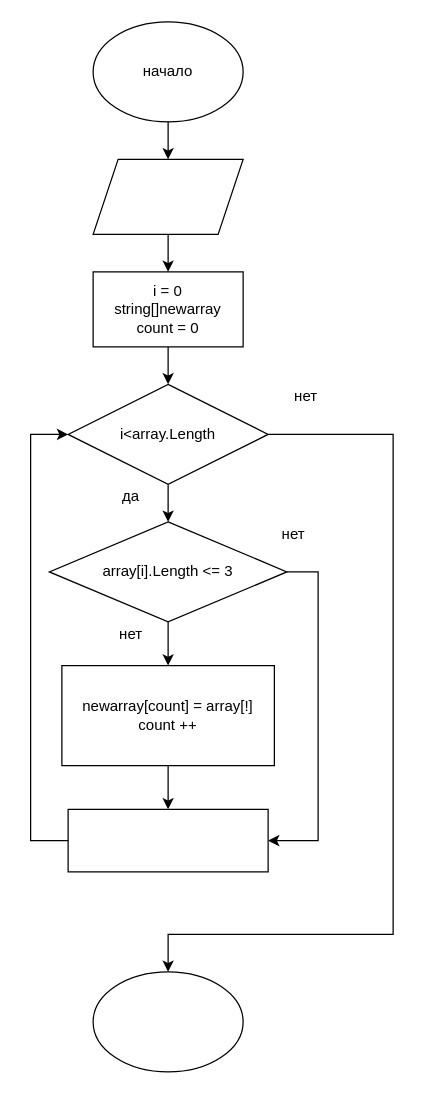
This 425x1094 diagram has some shape labels left out. The shapes that lost their labels are listed below. From the top down, each one's centre as x and y in pixels, then its label:
the point at 167,196: length arrrray[length]
the point at 167,840: i++
the point at 167,1021: конец
